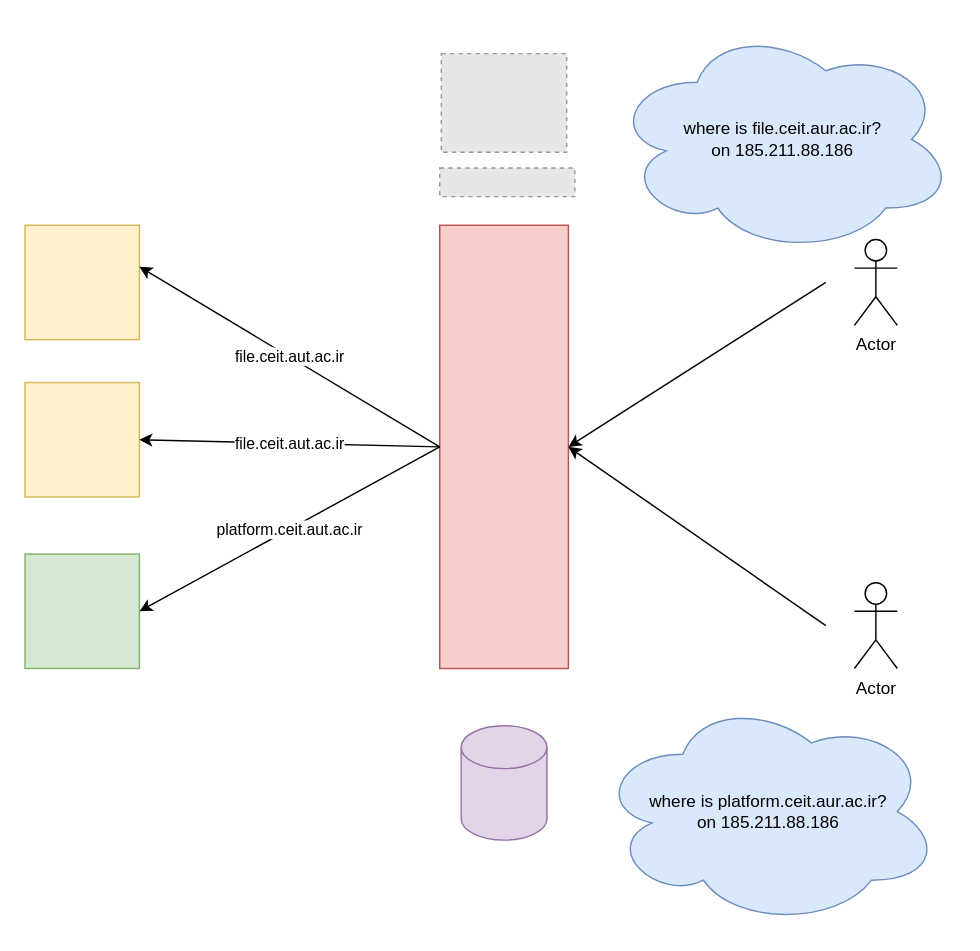
Some shapes in this 980 by 951 pixel diagram are drawn without their labels. Grey dashed boxes stand in for pictures. Each missing label, with the centre of its shape:
Cache: point (503, 782)
gateway.ceit.aut.ac.ir 185.211.88.186: point (503, 446)
